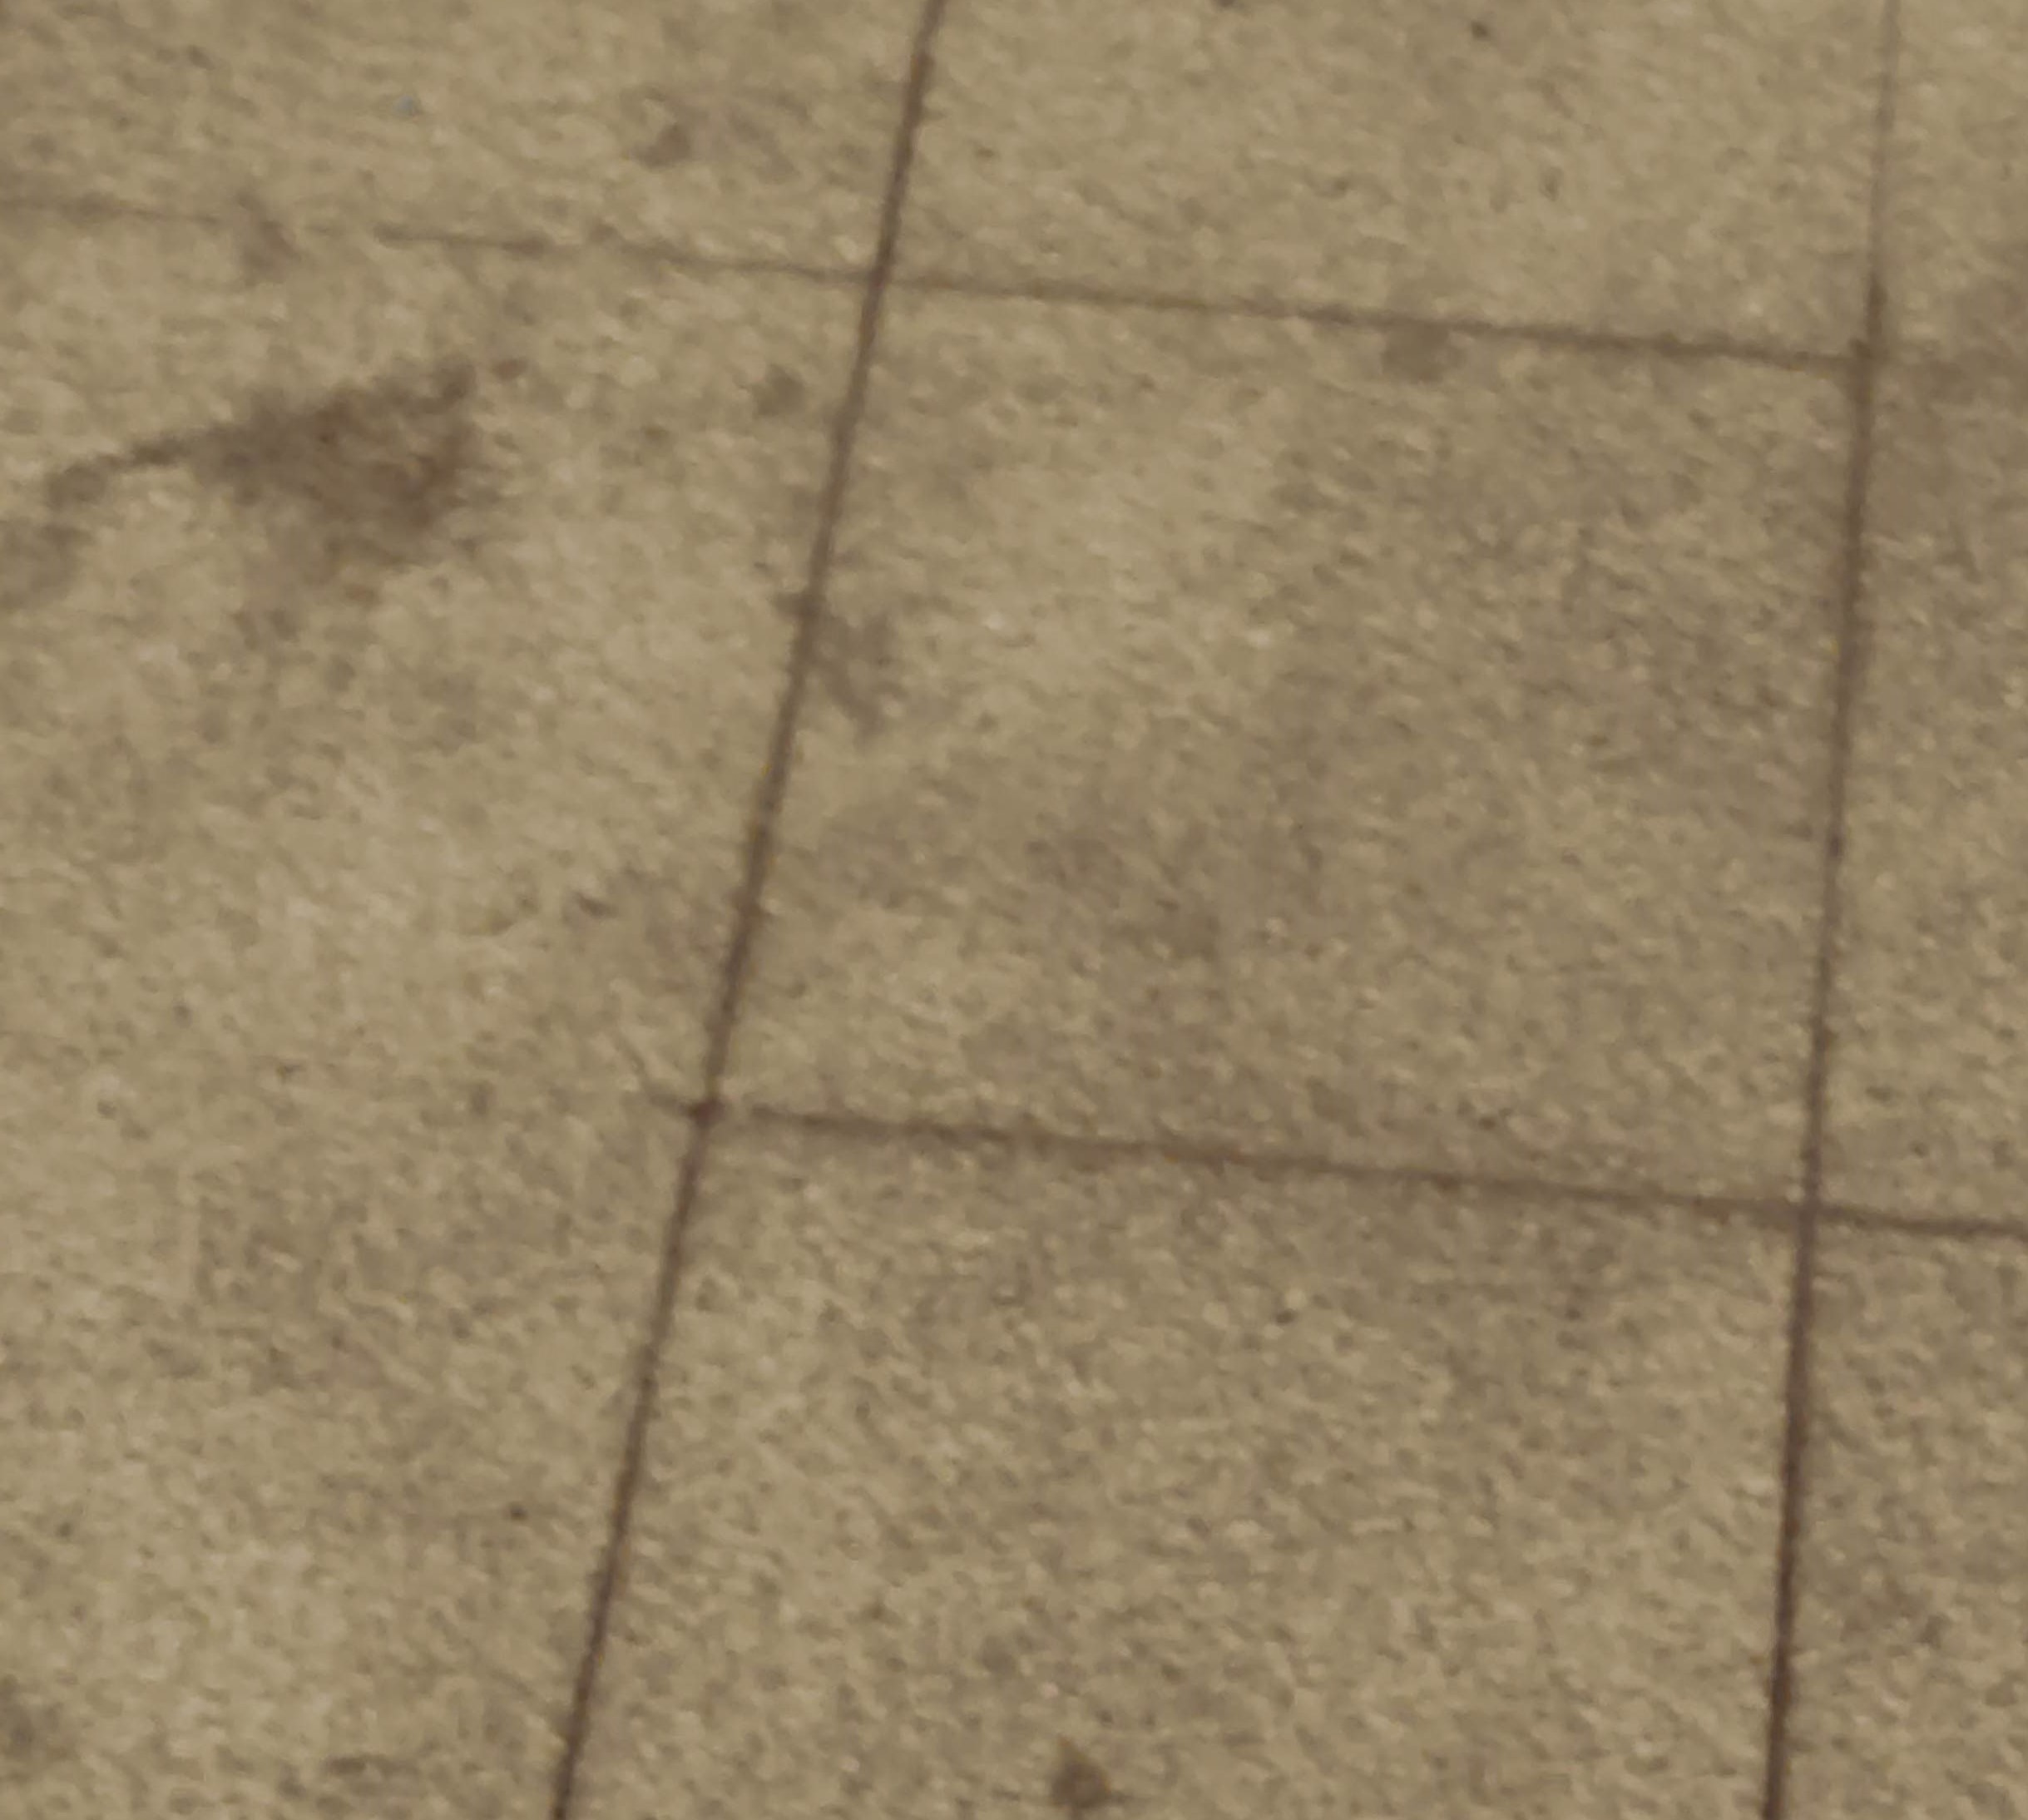grey spot: (2, 365, 483, 601), (1049, 1750, 1114, 1816), (1394, 325, 1457, 385)
